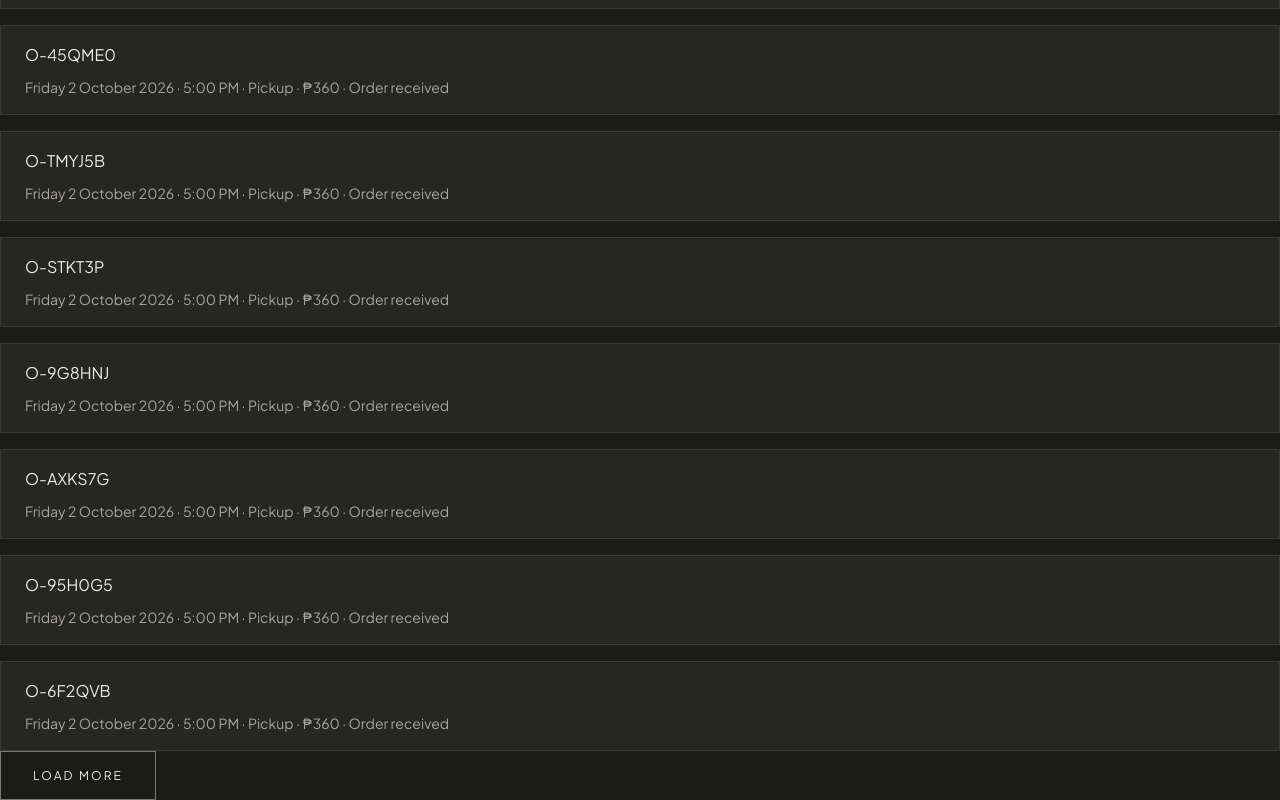
Scenario: OrderHistory › lists orders newest first, ten at a time
The width and height of the screenshot is (1280, 800).
(page scrolled)
Click the button "Load more".
click(78, 776)  # box top-left (0, 751), bottom-right (156, 799)
(page scrolled)
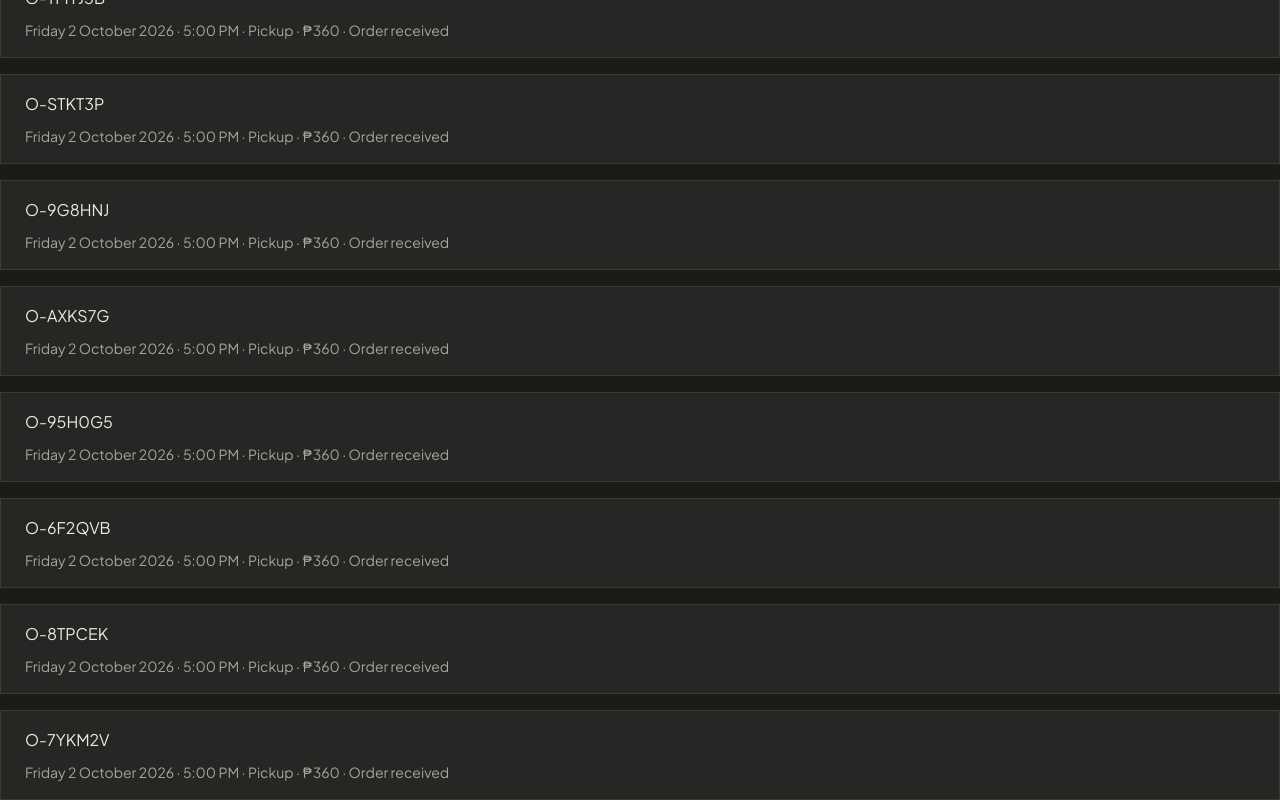
expect the number of links "O-" is 12: met
expect the button "Load more" is gone: met
